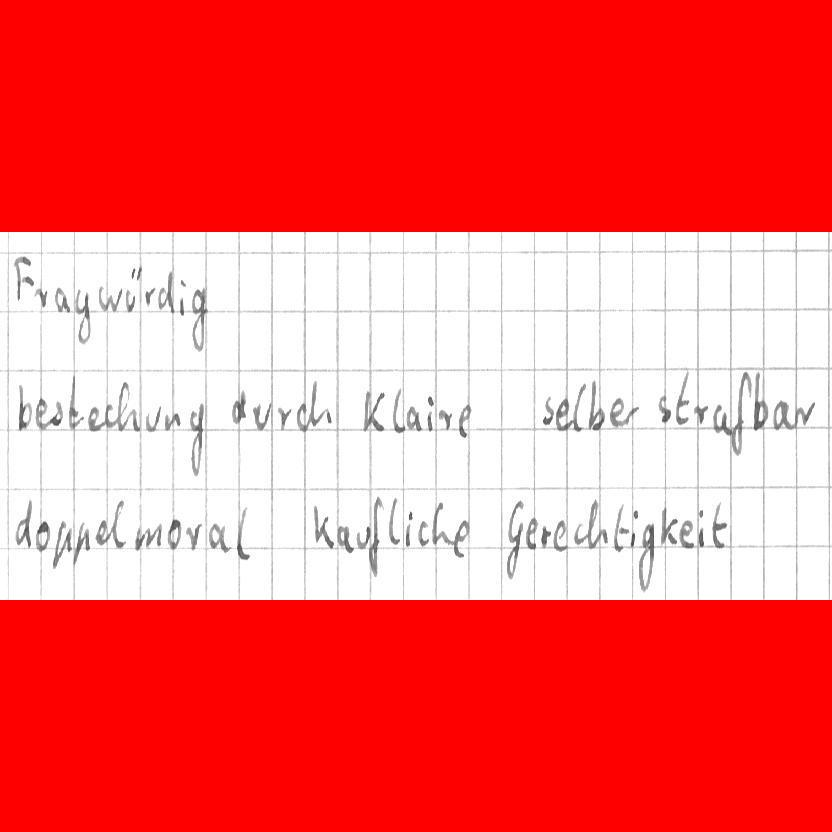Char: (729, 369, 752, 459), (505, 497, 525, 581), (186, 402, 207, 478), (188, 288, 210, 354), (115, 380, 141, 433), (636, 521, 655, 591), (367, 494, 383, 577), (586, 496, 611, 549), (359, 387, 386, 434), (71, 285, 91, 347), (11, 253, 35, 304), (51, 520, 74, 570), (429, 499, 453, 546), (308, 379, 331, 428), (13, 496, 34, 549), (311, 504, 335, 550), (109, 497, 130, 549), (133, 522, 164, 554), (71, 520, 92, 567), (753, 370, 769, 431), (124, 264, 143, 315), (68, 374, 85, 431), (612, 501, 630, 554), (154, 269, 175, 313), (658, 503, 679, 547), (589, 378, 606, 432), (236, 504, 252, 561), (386, 499, 405, 547), (770, 398, 795, 433), (16, 380, 32, 434), (229, 386, 250, 427), (676, 369, 691, 426), (97, 284, 125, 314), (711, 501, 728, 549), (454, 402, 474, 440), (252, 399, 274, 433), (793, 398, 817, 428), (452, 518, 470, 558), (573, 380, 587, 431), (208, 522, 230, 554), (711, 400, 730, 435), (391, 386, 404, 435), (32, 518, 50, 553), (336, 523, 355, 555), (554, 397, 571, 432), (166, 517, 183, 552), (52, 285, 72, 314), (183, 523, 203, 552), (657, 393, 674, 426), (553, 518, 569, 553), (144, 404, 162, 435), (160, 411, 183, 435), (32, 398, 48, 431), (678, 517, 694, 550), (87, 403, 105, 432), (276, 403, 294, 432), (609, 395, 625, 427), (294, 399, 309, 433), (524, 518, 539, 552), (622, 400, 640, 428), (403, 405, 422, 431), (628, 509, 640, 550), (695, 508, 707, 548), (425, 394, 437, 433), (403, 509, 415, 548), (438, 406, 455, 433), (177, 277, 188, 318), (94, 517, 109, 547), (542, 393, 555, 427), (51, 398, 64, 430), (693, 403, 710, 427), (102, 401, 116, 429), (356, 524, 371, 550), (32, 285, 48, 309), (571, 519, 586, 544), (416, 518, 428, 548), (538, 525, 551, 551), (143, 284, 155, 307)
